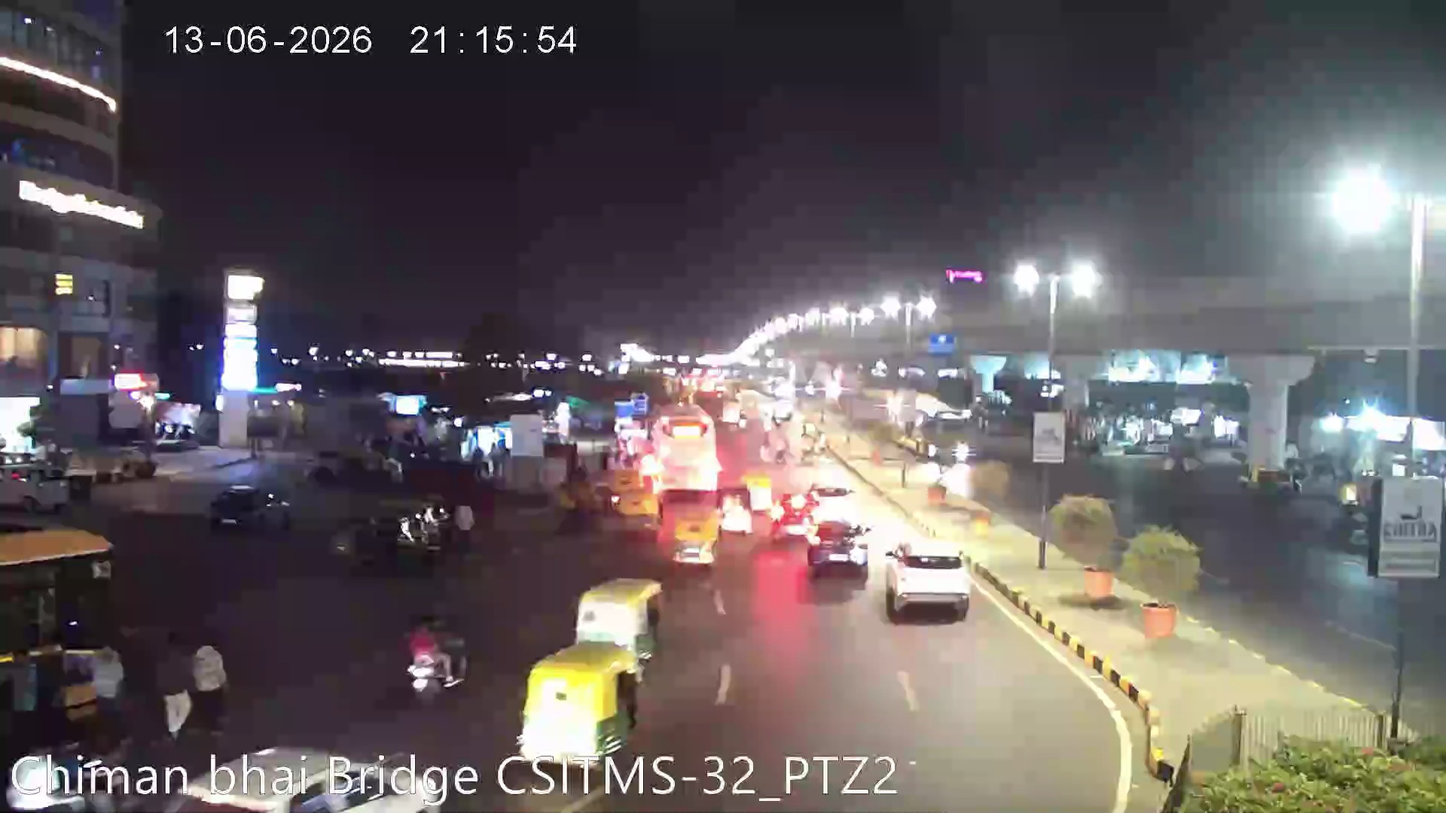auto_rickshaw: (511, 644, 644, 762), (330, 505, 434, 587), (571, 573, 667, 653), (670, 510, 721, 566), (719, 490, 756, 536)
bus: (0, 519, 131, 774), (657, 411, 716, 493)
car: (883, 538, 976, 623), (205, 479, 292, 534), (0, 453, 75, 514), (808, 513, 872, 573), (770, 494, 813, 540)
pedestrian: (147, 624, 191, 744), (197, 629, 236, 743)
two_wheeler: (396, 609, 474, 699)
